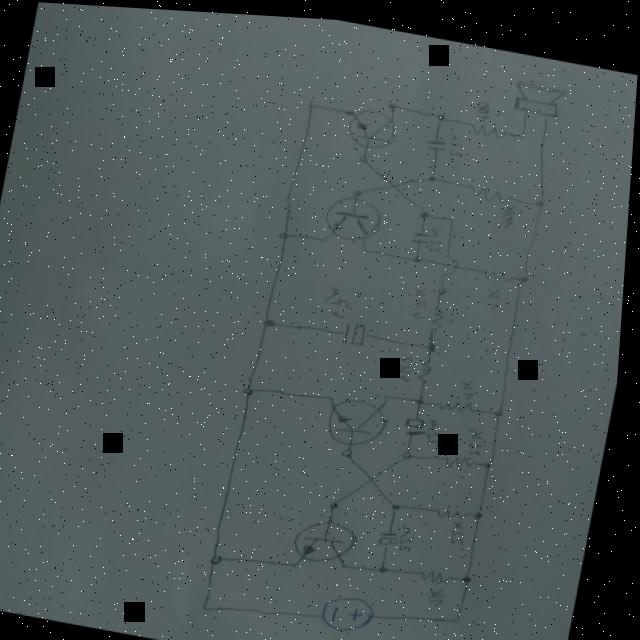capacitor: (346, 317, 370, 343), (406, 411, 434, 433), (383, 525, 405, 544), (424, 132, 448, 147), (412, 226, 434, 240)
crossover: (441, 248, 464, 274), (365, 465, 386, 482), (386, 173, 405, 188)
junction: (263, 314, 281, 326), (244, 382, 260, 395), (216, 551, 230, 564), (277, 226, 293, 237), (436, 280, 451, 291), (345, 443, 359, 453), (418, 204, 432, 214), (385, 96, 399, 106), (352, 183, 364, 194), (435, 105, 447, 116), (383, 559, 396, 569), (497, 402, 510, 412), (413, 249, 426, 259), (357, 149, 370, 159), (427, 168, 440, 178), (535, 192, 547, 202), (305, 96, 317, 106), (405, 445, 418, 454), (520, 268, 533, 277), (418, 391, 429, 401), (516, 124, 527, 134), (467, 569, 479, 578), (478, 504, 490, 513), (333, 496, 345, 505), (294, 556, 306, 565), (395, 497, 406, 506), (429, 337, 440, 346), (448, 210, 459, 219), (456, 610, 468, 618), (485, 455, 497, 463), (208, 601, 219, 609), (320, 232, 331, 240), (346, 558, 357, 565), (361, 242, 372, 249), (386, 388, 396, 395), (331, 390, 340, 397)
resistor: (466, 176, 517, 200), (446, 445, 482, 467), (468, 116, 510, 134), (438, 500, 476, 517), (425, 562, 459, 580), (443, 392, 479, 409), (484, 261, 520, 278), (431, 299, 450, 328), (420, 351, 437, 379)
source: (326, 586, 385, 632)
text: (324, 281, 355, 316), (408, 279, 434, 316), (468, 421, 491, 452), (398, 348, 420, 377), (402, 517, 422, 548), (446, 125, 467, 154), (484, 279, 505, 306), (428, 220, 447, 249), (428, 412, 446, 441), (461, 371, 481, 396), (454, 514, 473, 540), (501, 196, 519, 223), (473, 93, 491, 118), (433, 581, 453, 602), (333, 634, 359, 640)
transistor: (296, 509, 368, 563), (328, 389, 395, 446), (323, 187, 389, 243), (344, 99, 401, 150)
